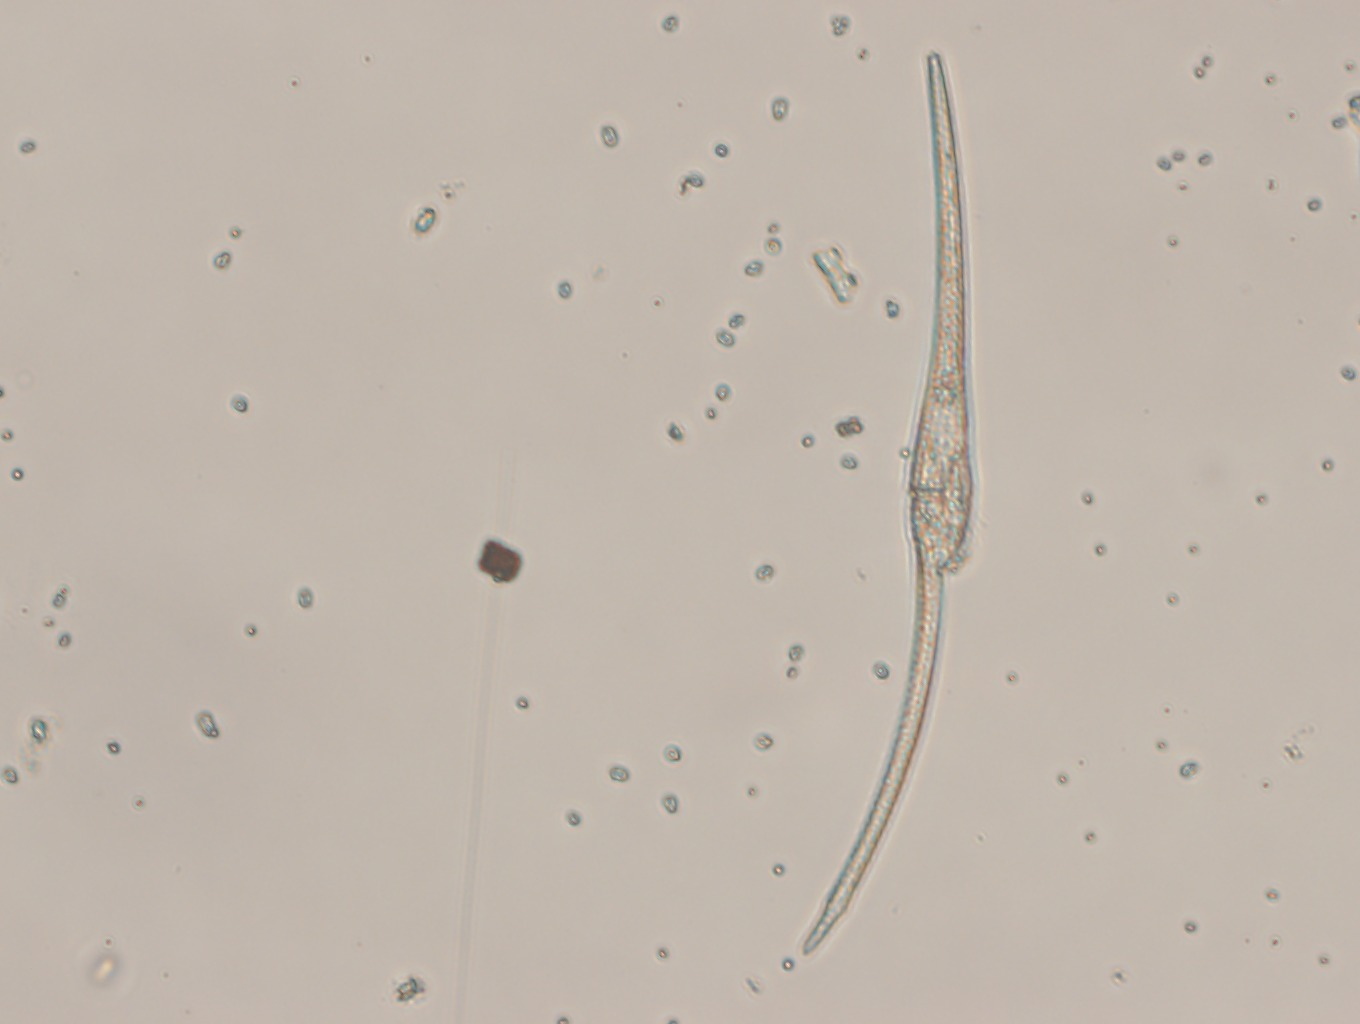ceratium fusus: (801, 45, 991, 964)
